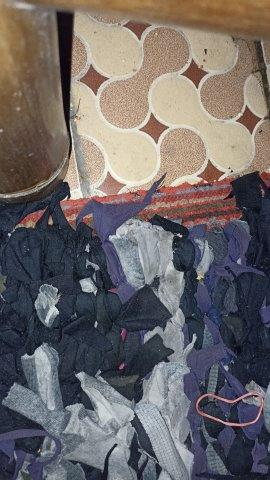karet: (196, 392, 264, 427)
